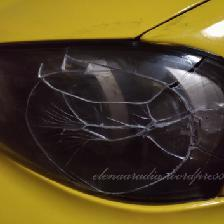broken_part: (25, 63, 155, 131)
